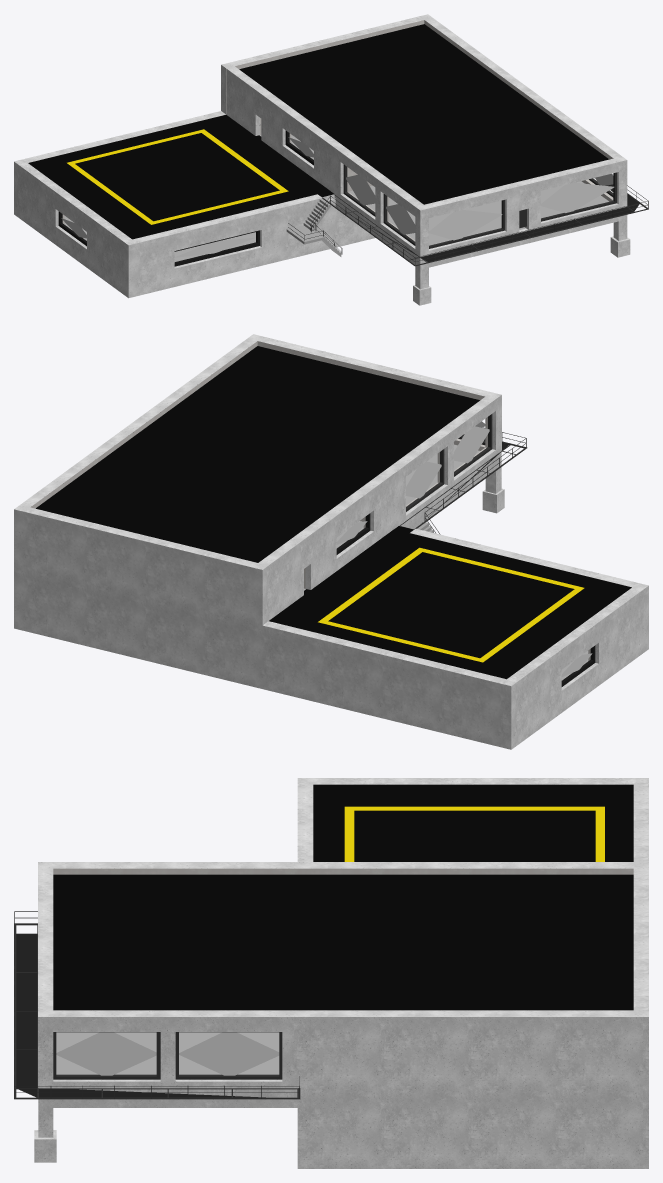
Rendered from military-hq.lod1.glb.
The picture shows the model from 3 angles, top to bottom: view 1: azimuth 30°, elevation 25°; view 2: azimuth 150°, elevation 25°; view 3: azimuth 270°, elevation 25°; orthographic projection. The views are drawn at different scales.
Visible parts, largest first — view 1: Walls_Floor_2_0, Walls_Outer_Walls_0, Railing_Railing_0, Walls_Inner_walls_0; view 2: Walls_Floor_2_0, Walls_Outer_Walls_0, Walls_Inner_walls_0, Railing_Railing_0; view 3: Walls_Floor_2_0, Walls_Outer_Walls_0, Railing_Railing_0, Walls_Inner_walls_0.
Part boxes in pixels (bbox=[...]): Walls_Floor_2_0: bbox=[28, 24, 638, 266]; Walls_Outer_Walls_0: bbox=[14, 14, 630, 305]; Railing_Railing_0: bbox=[288, 164, 648, 266]; Walls_Inner_walls_0: bbox=[34, 20, 613, 241]; Walls_Floor_2_0: bbox=[36, 346, 631, 686]; Walls_Outer_Walls_0: bbox=[14, 334, 648, 749]; Walls_Inner_walls_0: bbox=[30, 341, 631, 680]; Railing_Railing_0: bbox=[399, 414, 527, 534]; Walls_Floor_2_0: bbox=[16, 784, 633, 1097]; Walls_Outer_Walls_0: bbox=[34, 778, 648, 1168]; Railing_Railing_0: bbox=[14, 911, 300, 1099]; Walls_Inner_walls_0: bbox=[53, 868, 633, 874].
Bounding box in the file's own units: 40.21 × 8.91 × 33.7.
Materials: 6 (3 with a texture image).
